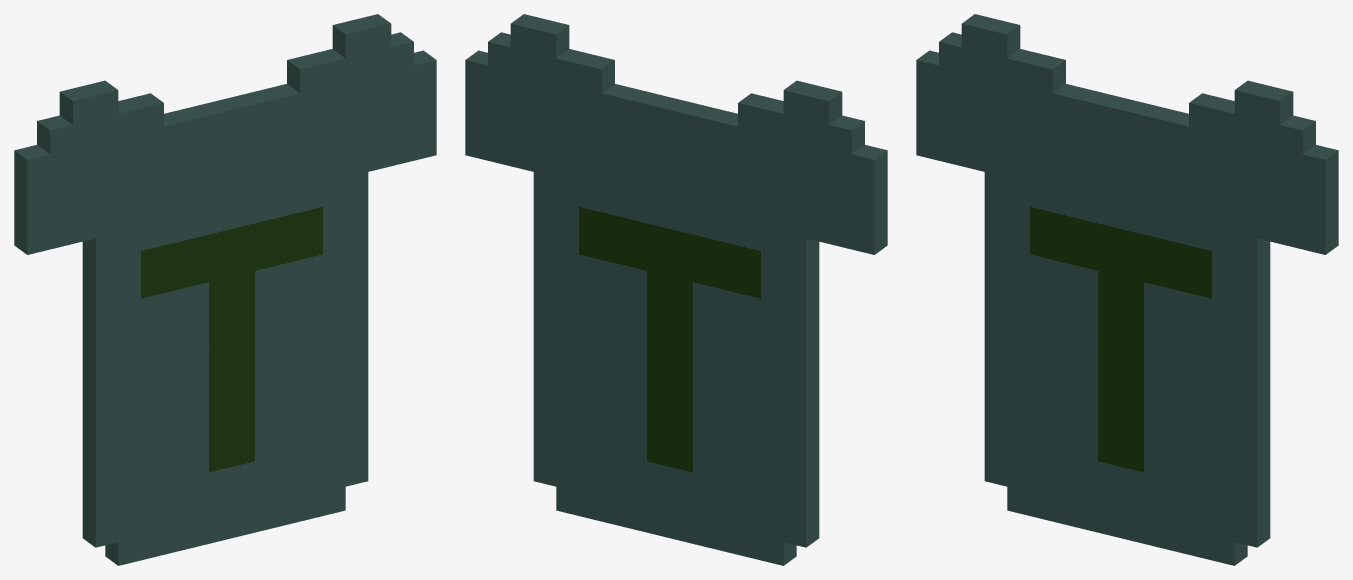
File: koszulka_neon.dae
3 renders of one model, left to right at view 1: azimuth 30°, elevation 25°; view 2: azimuth 150°, elevation 25°; view 3: azimuth 330°, elevation 25°, orthographic.
Visible parts, largest first — view 1: Content; view 2: Content; view 3: Content.
Part boxes in pixels (x1,y1,x2,y2): Content: [14, 14, 436, 565]; Content: [465, 14, 887, 565]; Content: [916, 14, 1338, 565].
Bounding box in the file's own units: 18 × 20 × 1.
1 material, 1 textured.
